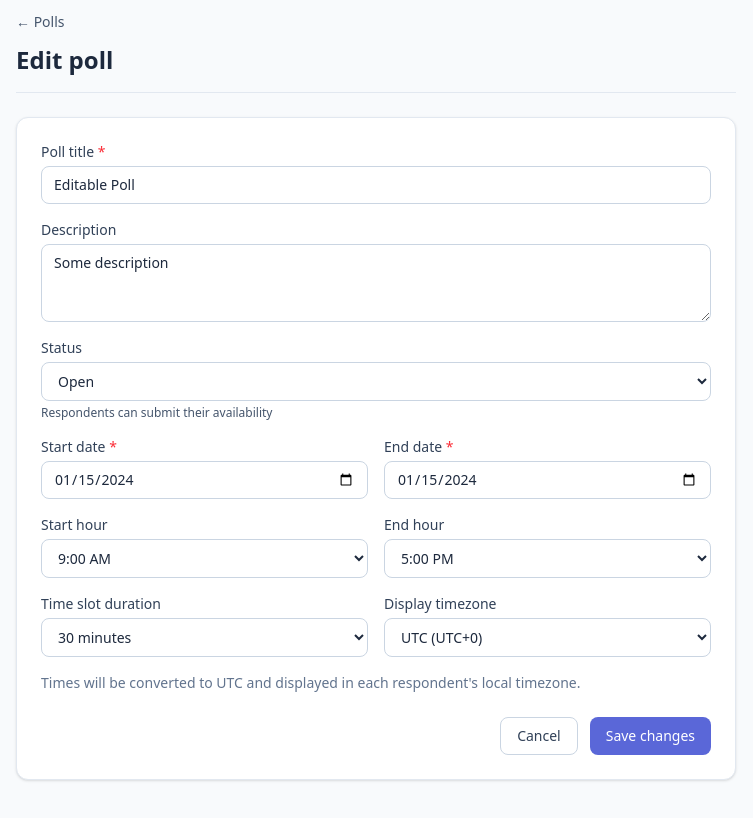
Test: PollEdit - populated form › flags an end hour before the start hour and blocks save
expect the field showing "Editable Poll" is shown: met, box [41,166,711,204]
Select "1:00 AM" in the dropdown labelled "End hour" at (548, 558), box [384,539,711,578]
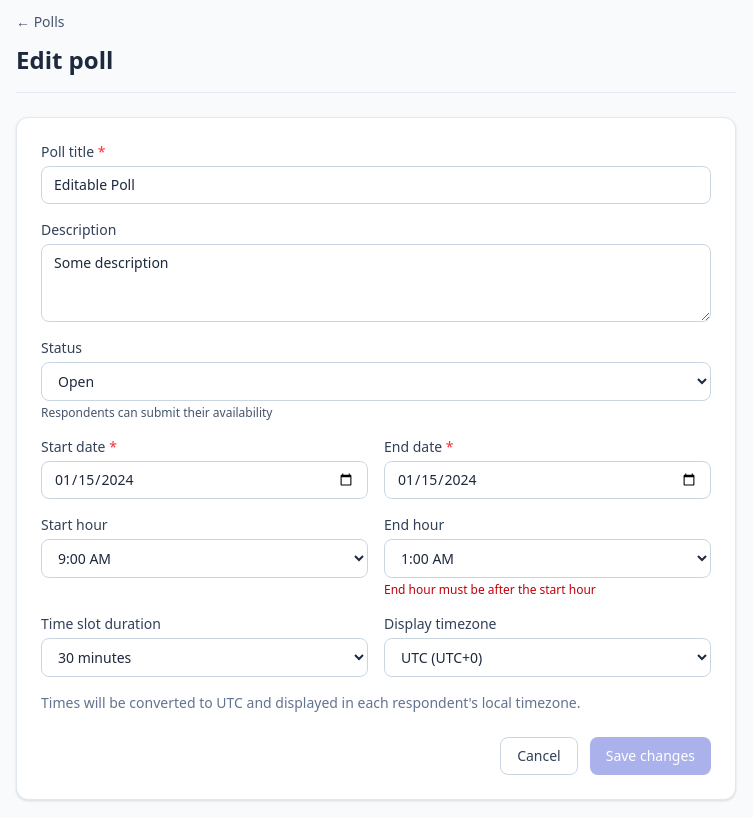
expect the button "Save changes" is disabled: met, box [590,737,711,775]
